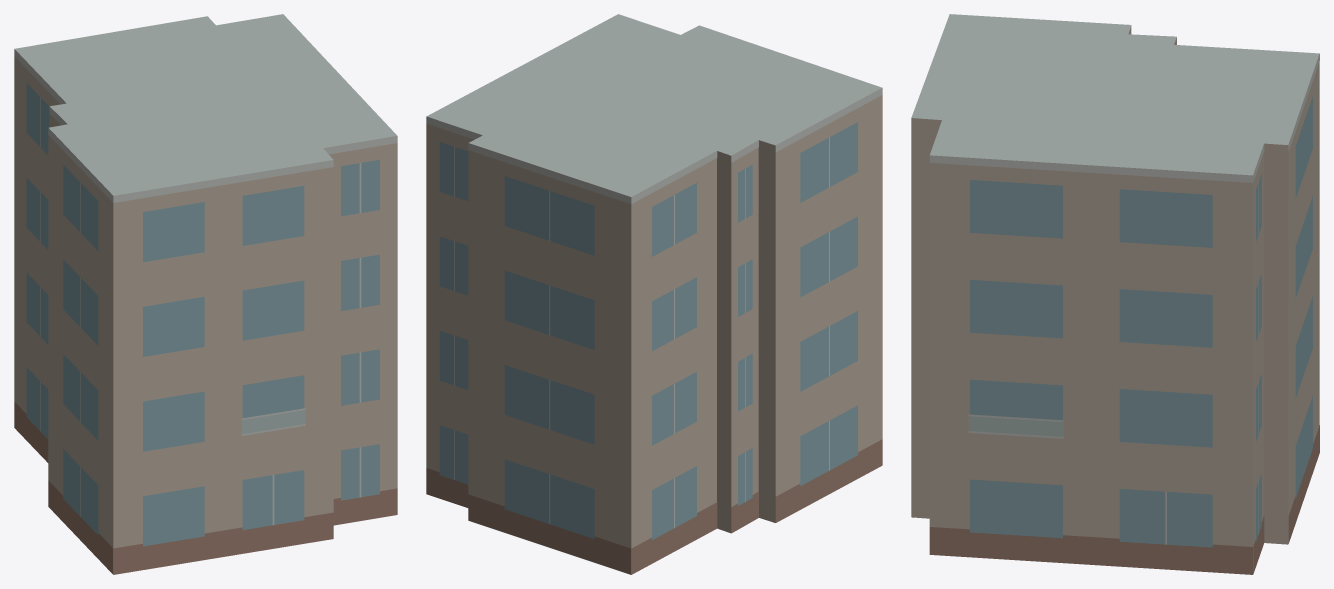
The model's file is survey-upis-32671954.glb.
3 renders of one model, left to right at view 1: azimuth 30°, elevation 25°; view 2: azimuth 150°, elevation 25°; view 3: azimuth 270°, elevation 25°, orthographic. The views are drawn at different scales.
Parts seen in each view (by area): view 1: survey-upis-32671954.tmp; view 2: survey-upis-32671954.tmp; view 3: survey-upis-32671954.tmp.
Part boxes in pixels (<box>): survey-upis-32671954.tmp: <box>14,14,397,574</box>; survey-upis-32671954.tmp: <box>426,14,882,574</box>; survey-upis-32671954.tmp: <box>911,14,1319,574</box>.
Size of the model in its own units: 11.23 by 12.95 by 12.01.
